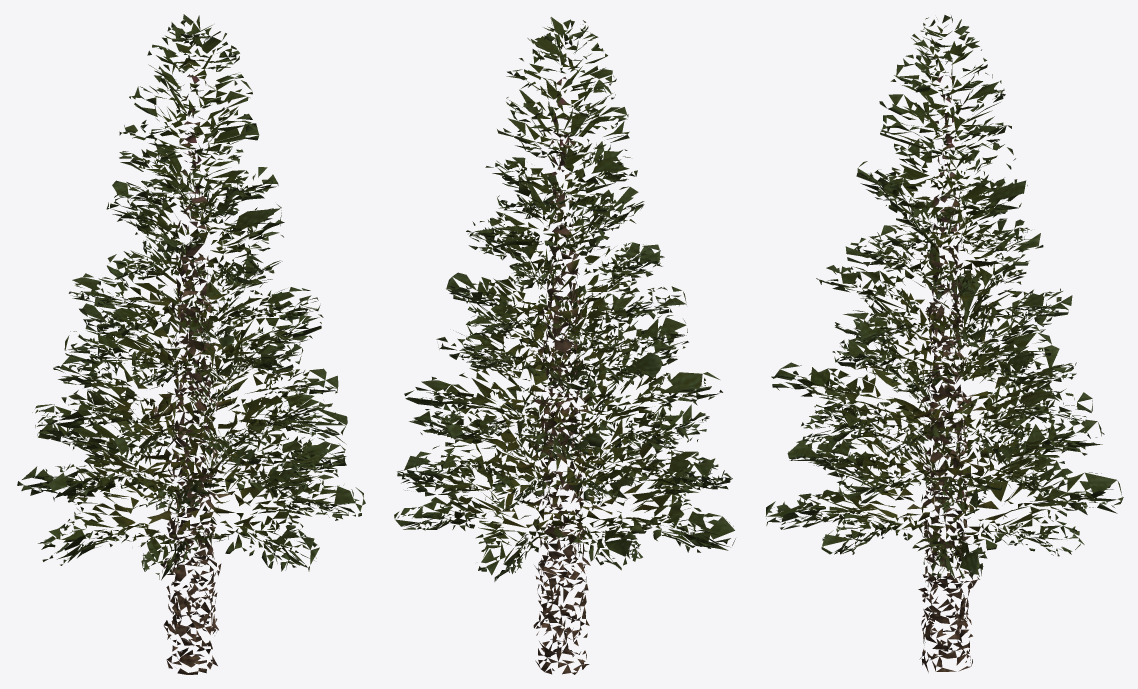
Rendered from tree_65_wollemi_pine_mobile.glb.
3 renders of one model, left to right at view 1: azimuth 30°, elevation 25°; view 2: azimuth 150°, elevation 25°; view 3: azimuth 270°, elevation 25°, orthographic.
Parts seen in each view (by area): view 1: world; view 2: world; view 3: world.
Part boxes in pixels (<box>): world: <box>17,14,365,674</box>; world: <box>394,17,735,674</box>; world: <box>765,15,1123,672</box>.
Size of the model in its own units: 0.5201 by 1 by 0.5083.
Materials: 1 (1 with a texture image).
